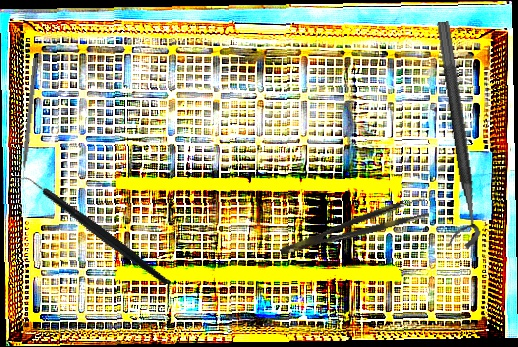Chopper: (12, 138, 171, 324)
Fixation Ring: (417, 20, 483, 252)
Hook Surgical: (18, 57, 39, 189)
Tissue Forceps: (276, 196, 430, 257)
